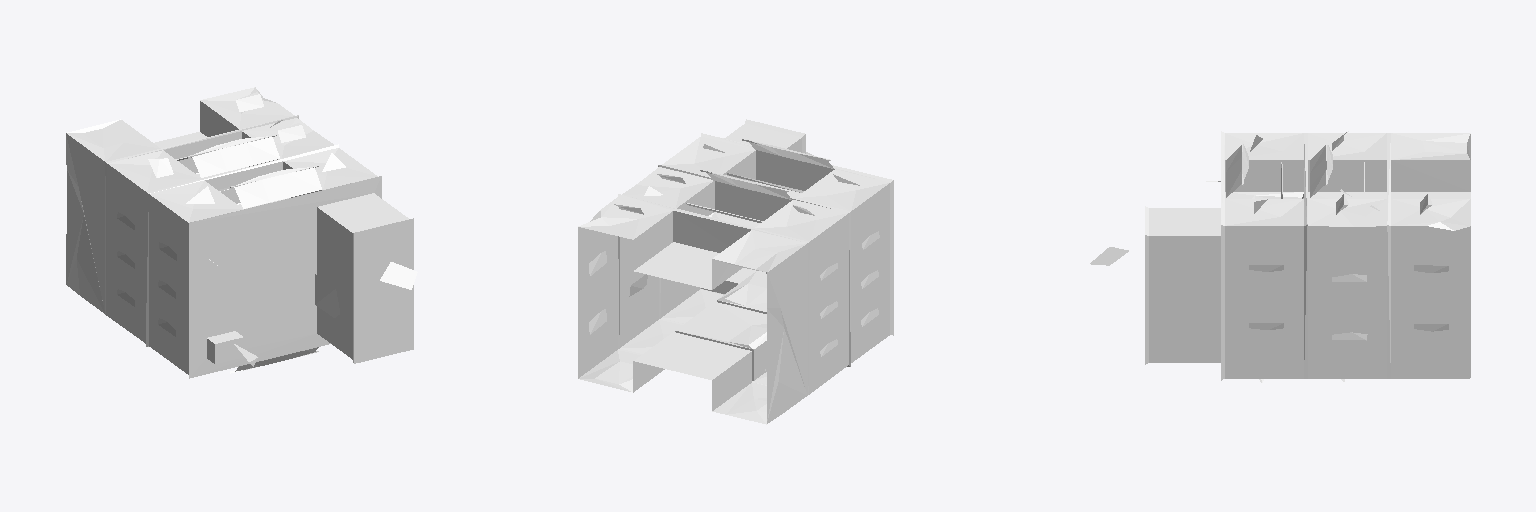
Rendered from house1LOD.obj.
The picture shows the model from 3 angles: view 1: azimuth 30°, elevation 25°; view 2: azimuth 150°, elevation 25°; view 3: azimuth 270°, elevation 25°; orthographic projection.
Parts seen in each view (by area): view 1: house1.001_LOD1.001_LOD1; view 2: house1.001_LOD1.001_LOD1; view 3: house1.001_LOD1.001_LOD1.
Boxes of the visible parts, x1=… form: house1.001_LOD1.001_LOD1: x1=66, y1=87, x2=417, y2=378; house1.001_LOD1.001_LOD1: x1=578, y1=119, x2=893, y2=424; house1.001_LOD1.001_LOD1: x1=1090, y1=131, x2=1470, y2=382.
Bounding box in the file's own units: 11.76 × 10.99 × 20.13.